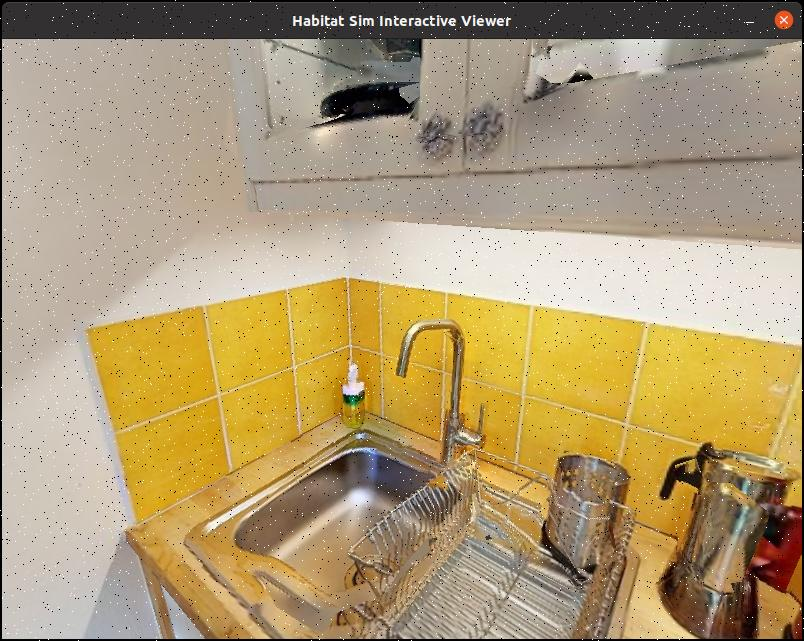sink: (153, 292, 540, 641)
